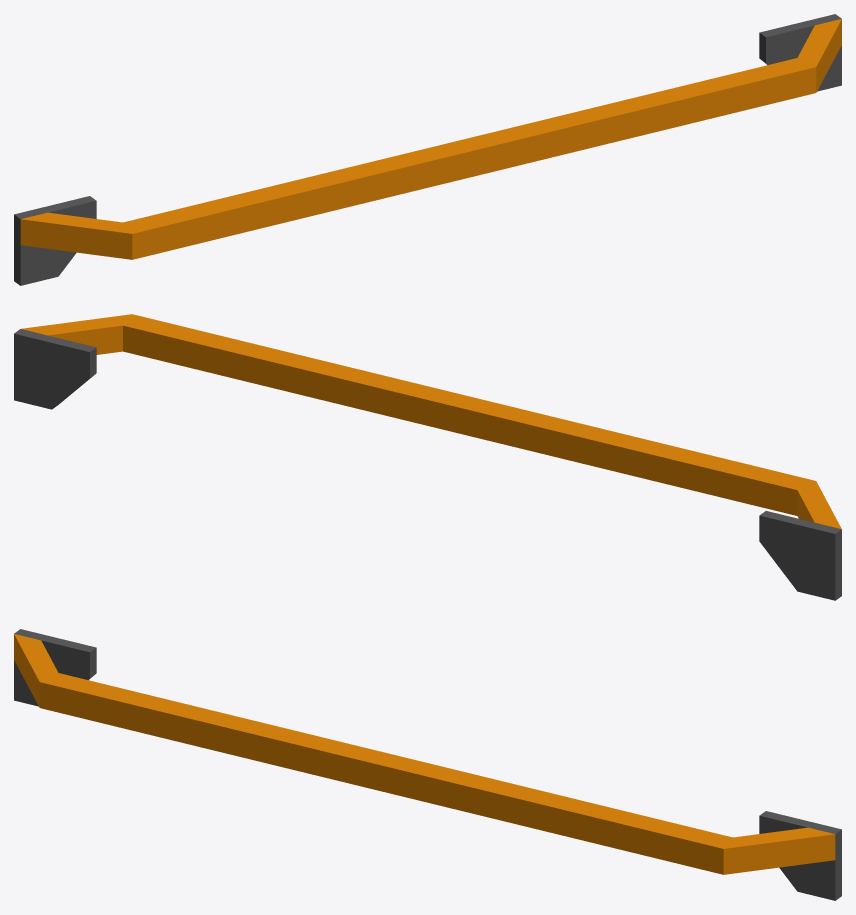
Rendered from LPSciFi_WallHandleA.fbx.
3 renders of one model, top to bottom at view 1: azimuth 30°, elevation 25°; view 2: azimuth 150°, elevation 25°; view 3: azimuth 330°, elevation 25°, orthographic.
Visible parts, largest first — view 1: WallHandleA; view 2: WallHandleA; view 3: WallHandleA.
Boxes of the visible parts, left/top/right/bottom form: WallHandleA: left=14, top=14, right=841, bottom=285; WallHandleA: left=14, top=314, right=841, bottom=600; WallHandleA: left=14, top=629, right=841, bottom=900.
Bounding box in the file's own units: 195 × 15.15 × 20.39.
